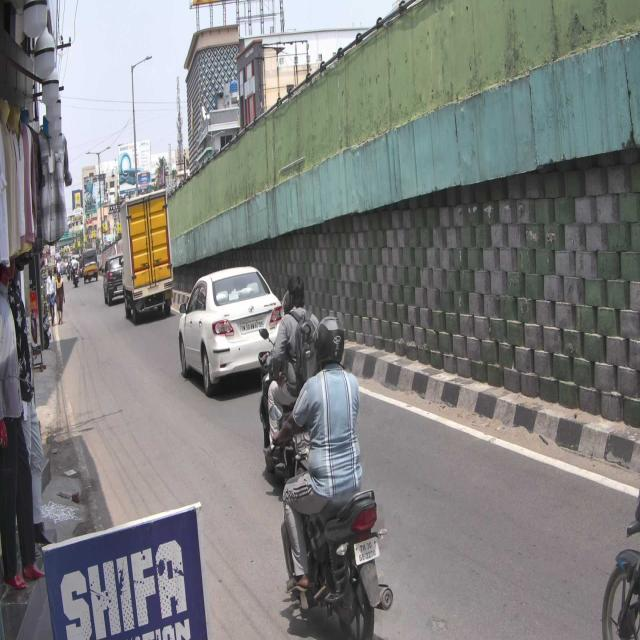single_rider: (272, 313, 394, 640)
